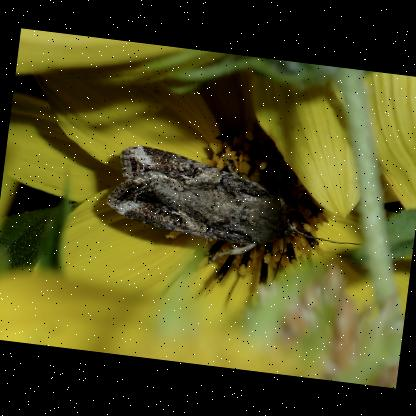Fall Armyworm Moth: (96, 140, 374, 298)
